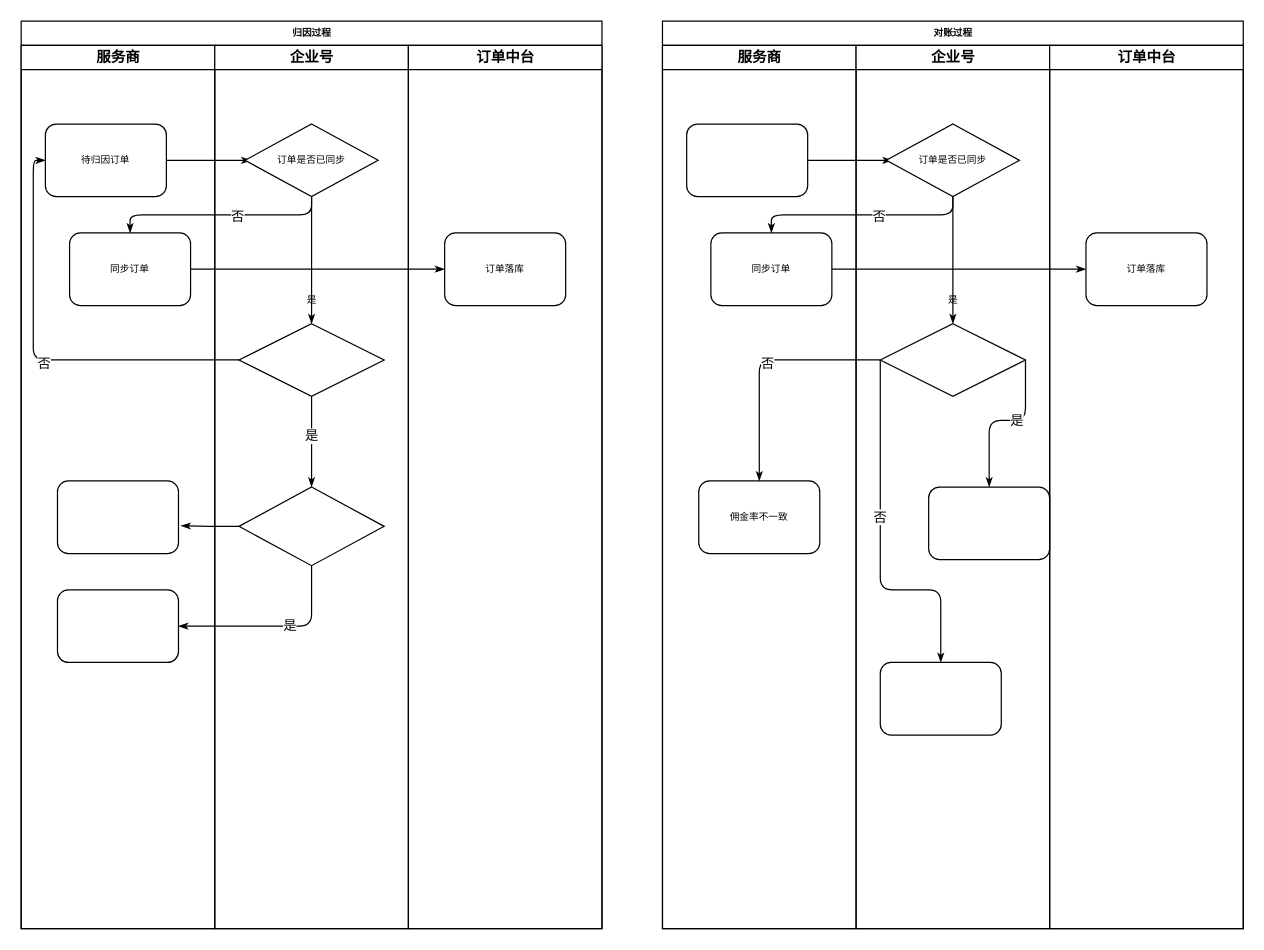
Image size: 1264x950. Some labels were removed from this diagram. The centre of each missing label's shape, as x and y in pixels:
3%+5%佣金率: (117,625)
3%佣金率: (117,517)
佣金率不一致标记: (940,698)
佣金率是否一致: (952,359)
已归因订单: (746,160)
归因数据是否OK: (311,359)
是否可归因到达人: (311,526)
标记订单对账通过: (988,523)
